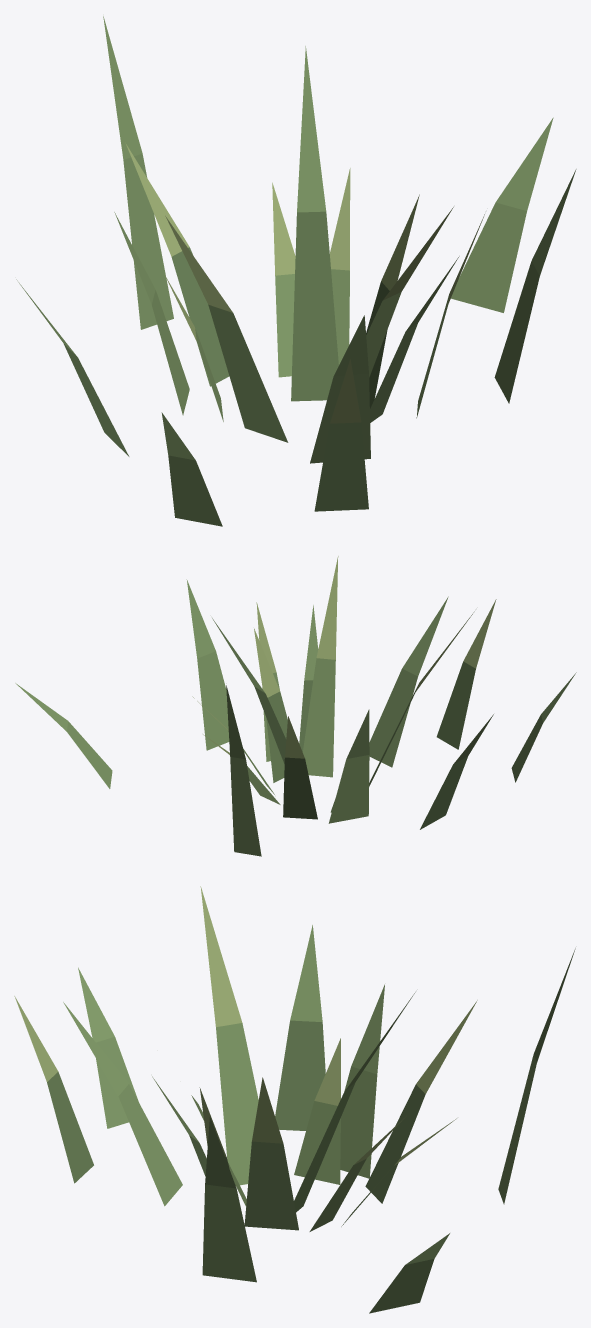
Rendered from grass_tuft.glb.
3 renders of one model, top to bottom at view 1: azimuth 30°, elevation 25°; view 2: azimuth 150°, elevation 25°; view 3: azimuth 270°, elevation 25°, orthographic. The views are drawn at different scales.
Parts seen in each view (by area): view 1: grass_tuft; view 2: grass_tuft; view 3: grass_tuft.
Boxes of the visible parts, x1,y1,x2,y2 form: grass_tuft: (16,16,576,526); grass_tuft: (15,556,576,856); grass_tuft: (14,886,575,1313).
Bounding box in the file's own units: 0.7577 × 0.3376 × 0.6788.
